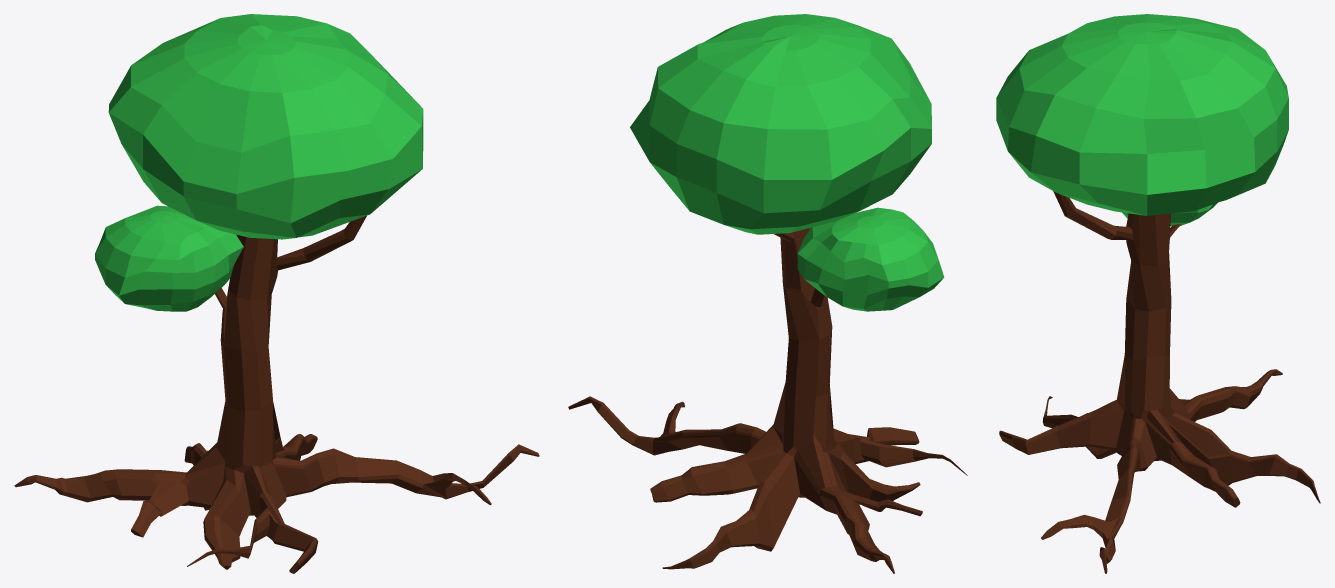
File: BaumColTest.glb
3 renders of one model, left to right at view 1: azimuth 30°, elevation 25°; view 2: azimuth 150°, elevation 25°; view 3: azimuth 270°, elevation 25°, orthographic. The views are drawn at different scales.
Visible parts, largest first — view 1: KroneOben, STamm-col, KroneMit; view 2: KroneOben, STamm-col, KroneMit; view 3: KroneOben, STamm-col, KroneMit.
Part boxes in pixels (x1,y1,x2,y2): KroneOben: [108, 14, 423, 239]; STamm-col: [14, 215, 539, 573]; KroneMit: [95, 205, 243, 311]; KroneOben: [630, 14, 931, 234]; STamm-col: [568, 227, 967, 573]; KroneMit: [797, 207, 944, 311]; KroneOben: [996, 14, 1288, 215]; STamm-col: [999, 191, 1320, 573]; KroneMit: [1122, 202, 1217, 226].
Bounding box in the file's own units: 59.07 × 65.28 × 41.5.
1 material, 1 textured.
